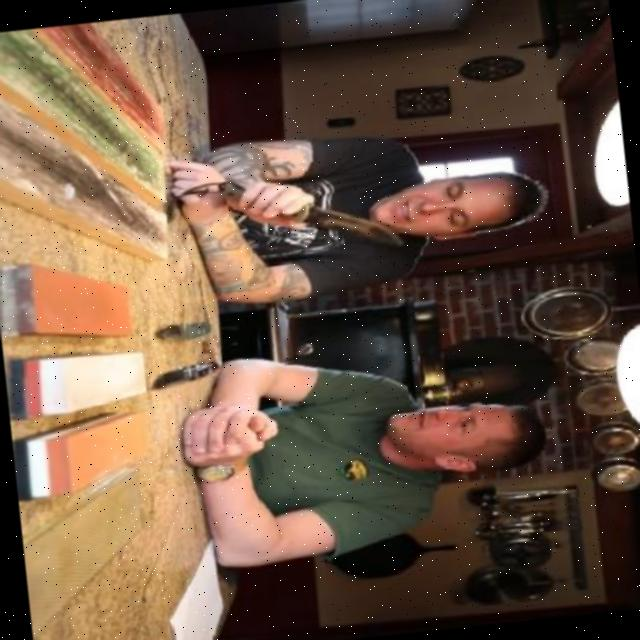Knife: (220, 162, 402, 265), (152, 359, 219, 388), (155, 320, 212, 342)
